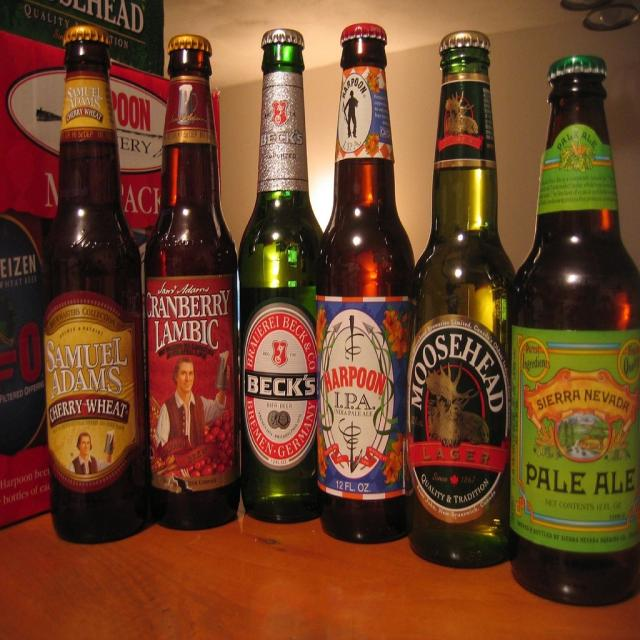becks: (244, 304, 317, 471)
